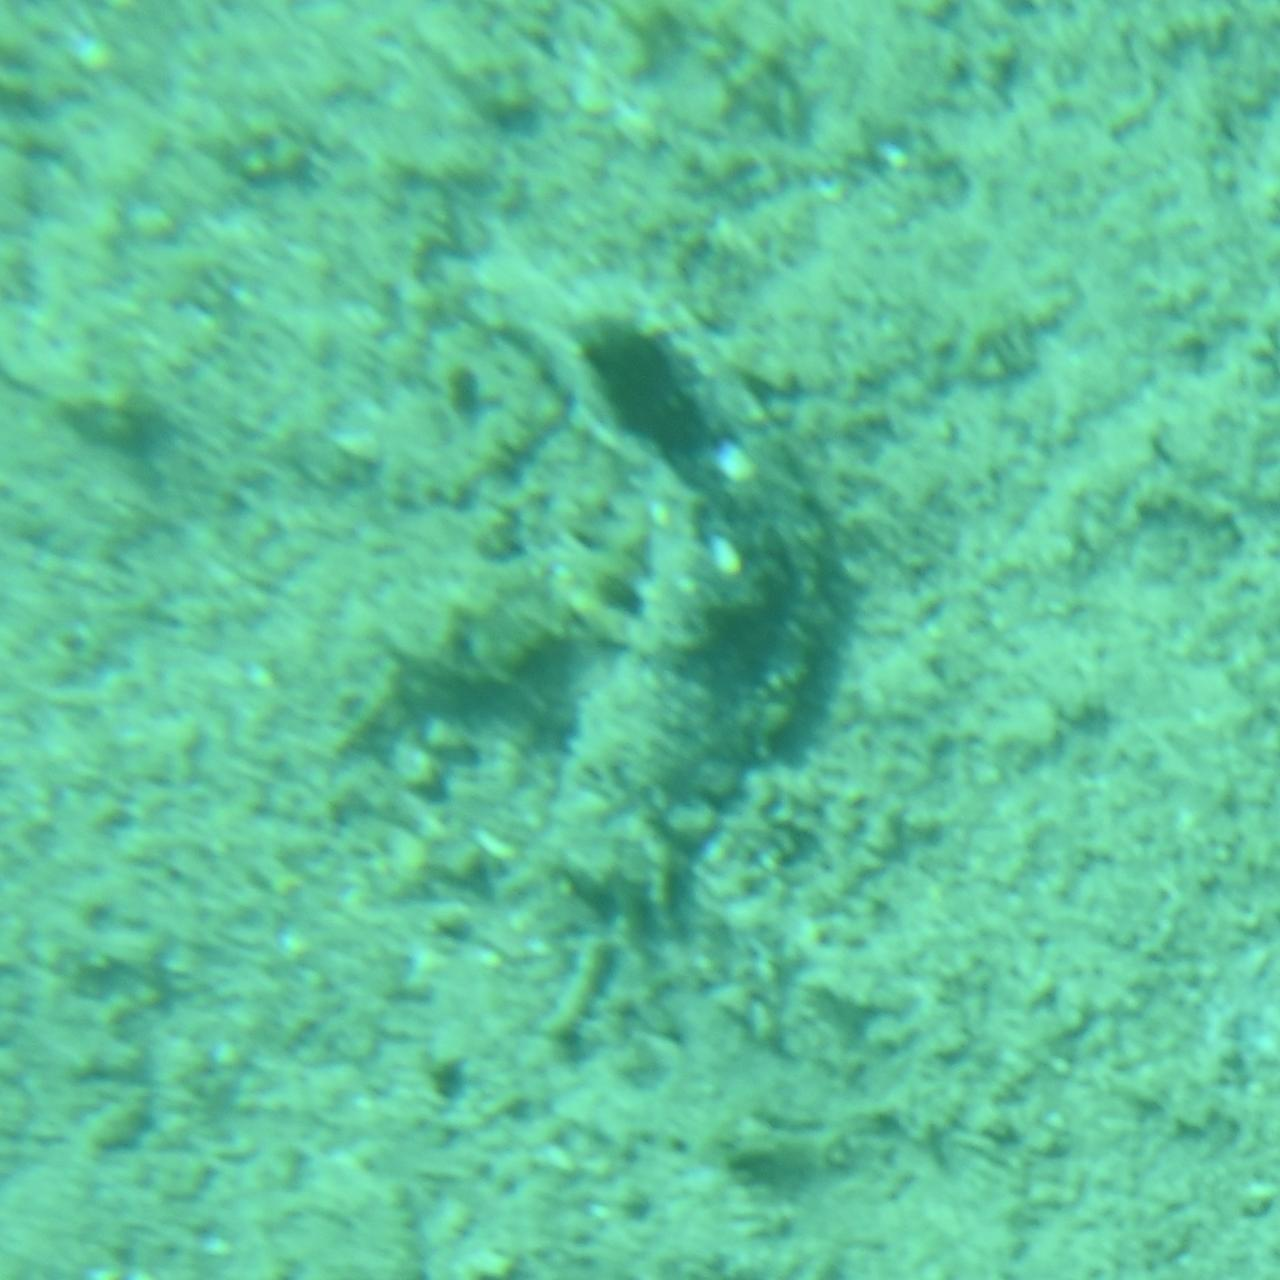Holothuria tubulosa: (430, 276, 850, 980)
